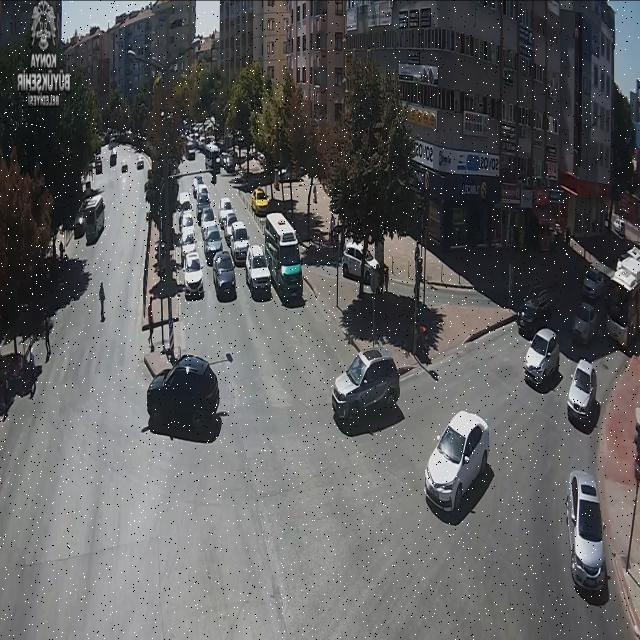Bus: (265, 210, 305, 302)
Car: (426, 412, 490, 512), (146, 355, 220, 437), (332, 348, 400, 424), (566, 473, 606, 593), (342, 239, 383, 290), (516, 287, 558, 335), (524, 329, 560, 385), (567, 359, 598, 423), (244, 244, 272, 298), (571, 302, 601, 344), (212, 249, 237, 299), (183, 252, 205, 298), (228, 222, 250, 264), (202, 225, 224, 264), (582, 267, 607, 299), (250, 187, 270, 217), (179, 224, 197, 255), (218, 207, 238, 234), (178, 208, 196, 232), (200, 208, 217, 233), (196, 192, 212, 216), (74, 210, 86, 238), (192, 175, 206, 198), (221, 154, 237, 173), (178, 191, 192, 211), (94, 155, 102, 174), (135, 154, 145, 169), (187, 144, 196, 160), (110, 150, 117, 166)
